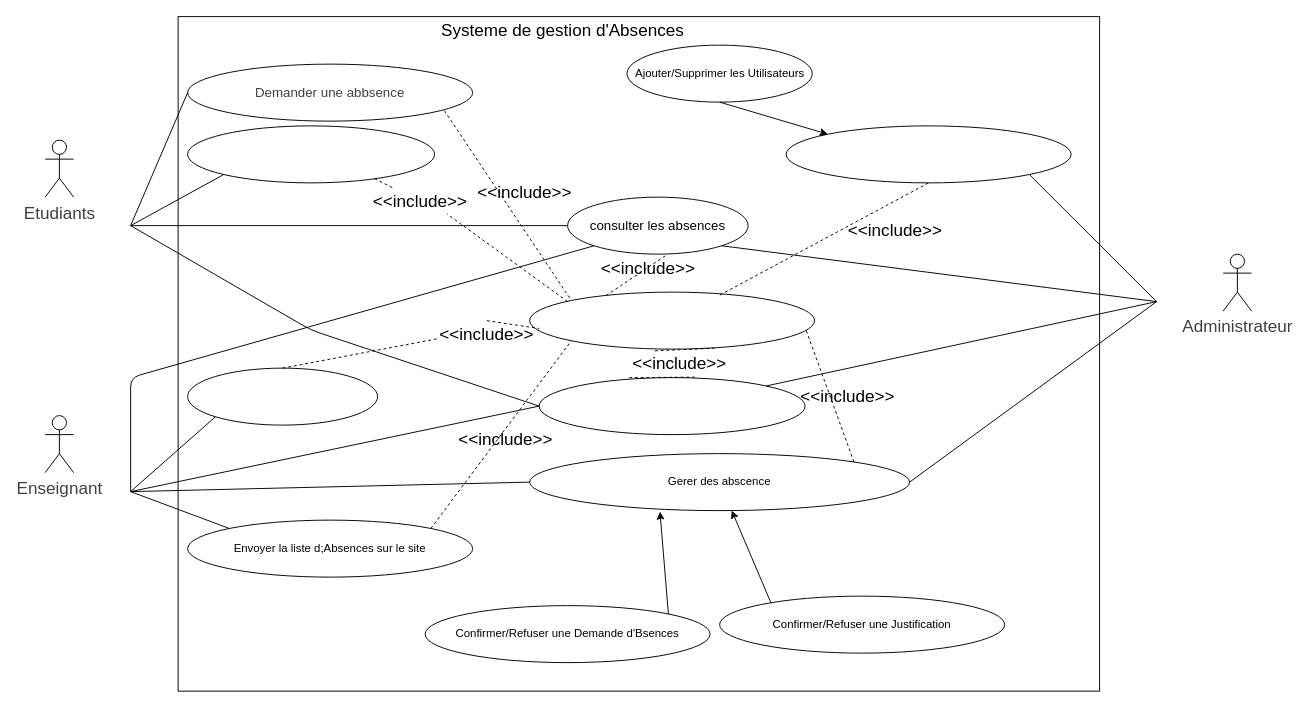
This 1308x708 diagram has some shape labels left out. The box of each missing label's shape, as (x1, y1, x2, y2) in pixels:
Faire le controle d'absence: (187, 367, 378, 425)
Gerer des utilisateurs: (785, 125, 1071, 183)
Gerer le profil: (538, 377, 805, 435)
Justifier une Absence: (187, 125, 435, 183)
S'Authentifier: (529, 291, 815, 349)
